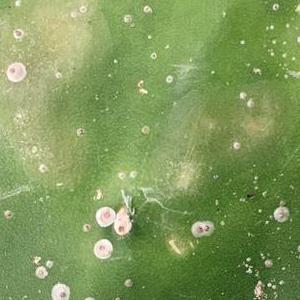Femea: (99, 210, 115, 228), (91, 244, 111, 257), (7, 65, 22, 80), (50, 286, 64, 299), (114, 222, 130, 233), (201, 221, 211, 237), (11, 29, 26, 38), (192, 224, 202, 237)
Linfa: (237, 253, 253, 268), (251, 281, 264, 299), (266, 277, 283, 290), (240, 267, 259, 276), (264, 46, 275, 58), (244, 98, 256, 105), (268, 22, 275, 31), (238, 37, 245, 46), (284, 20, 290, 30), (280, 40, 288, 46), (238, 90, 245, 96), (281, 50, 286, 56), (271, 38, 275, 43)
